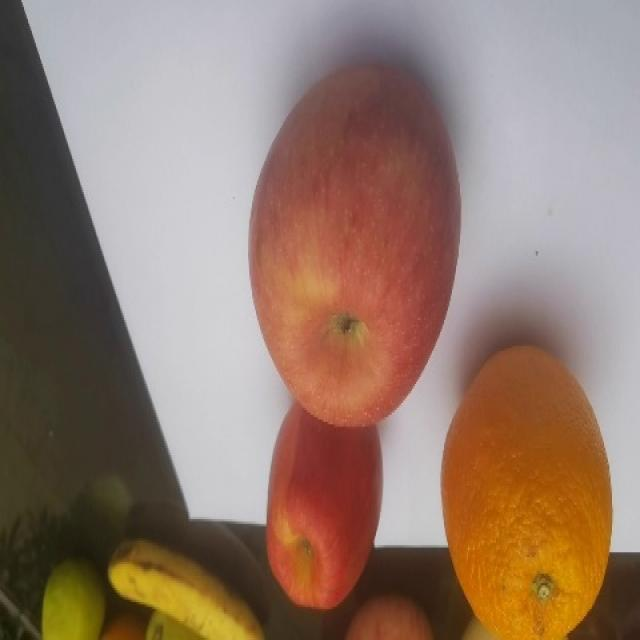Apple: (247, 60, 462, 427), (264, 401, 383, 610)
Banana: (106, 537, 264, 639)
Orange: (439, 343, 613, 639)
